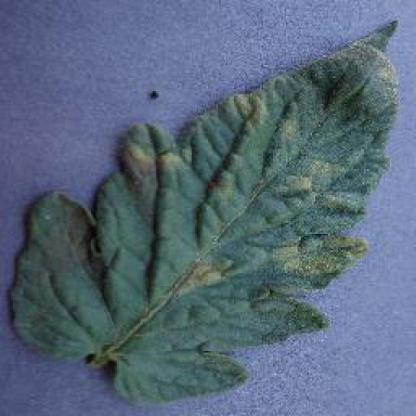Tomato_Leaf_Mold: (11, 20, 398, 397)
